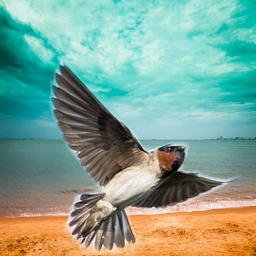Swallow: (48, 59, 241, 255)
